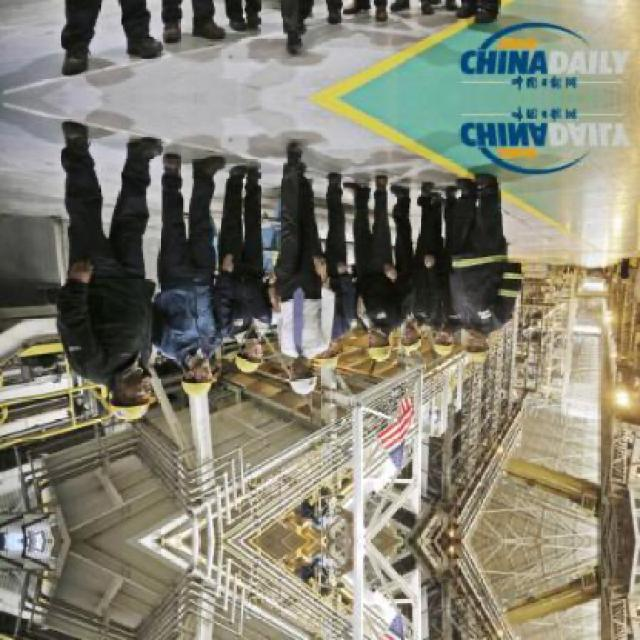con casco: (81, 366, 157, 439), (437, 317, 511, 374), (215, 330, 302, 376), (326, 324, 398, 368), (410, 318, 461, 374), (177, 345, 247, 385), (262, 364, 341, 398), (374, 326, 431, 366)
